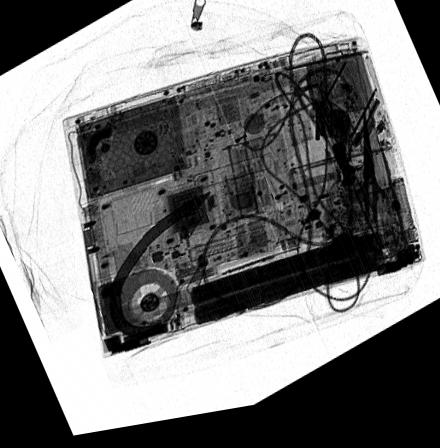Scissors: (354, 116, 389, 240)
